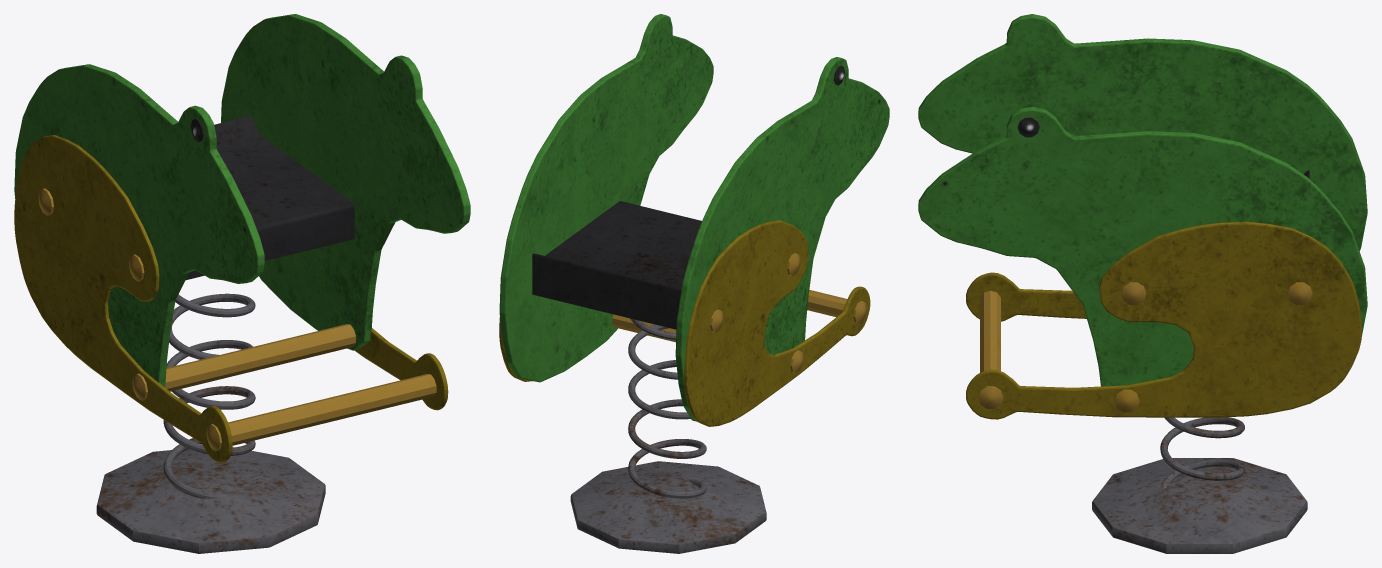
The model's file is Spring_Rocker02.fbx.
3 views of the same model, side by side, from view 1: azimuth 30°, elevation 25°; view 2: azimuth 150°, elevation 25°; view 3: azimuth 270°, elevation 25° (orthographic). The views are drawn at different scales.
Parts seen in each view (by area): view 1: Box077; view 2: Box077; view 3: Box077.
Boxes of the visible parts, x1,y1,x2,y2 form: Box077: (14, 14, 470, 553); Box077: (499, 14, 889, 553); Box077: (918, 14, 1367, 553).
Bounding box in the file's own units: 15.65 × 28.52 × 31.54.
